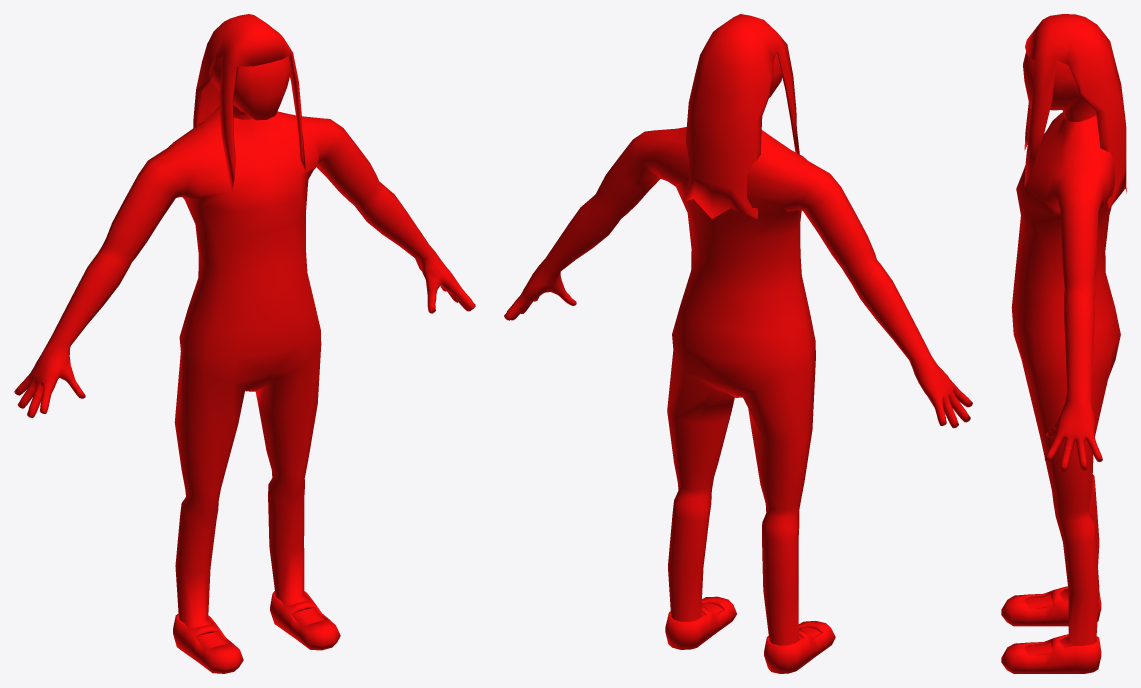
File: SUZY MODEL ALPHA.FBX
3 renders of one model, left to right at view 1: azimuth 30°, elevation 25°; view 2: azimuth 150°, elevation 25°; view 3: azimuth 270°, elevation 25°, orthographic.
Visible parts, largest first — view 1: Cylinder001; view 2: Cylinder001; view 3: Cylinder001.
Part boxes in pixels (bbox=[...]): Cylinder001: bbox=[14, 14, 475, 673]; Cylinder001: bbox=[504, 14, 972, 673]; Cylinder001: bbox=[1001, 14, 1126, 673].
Size of the model in its own units: 41.57 by 55.24 by 10.01.
